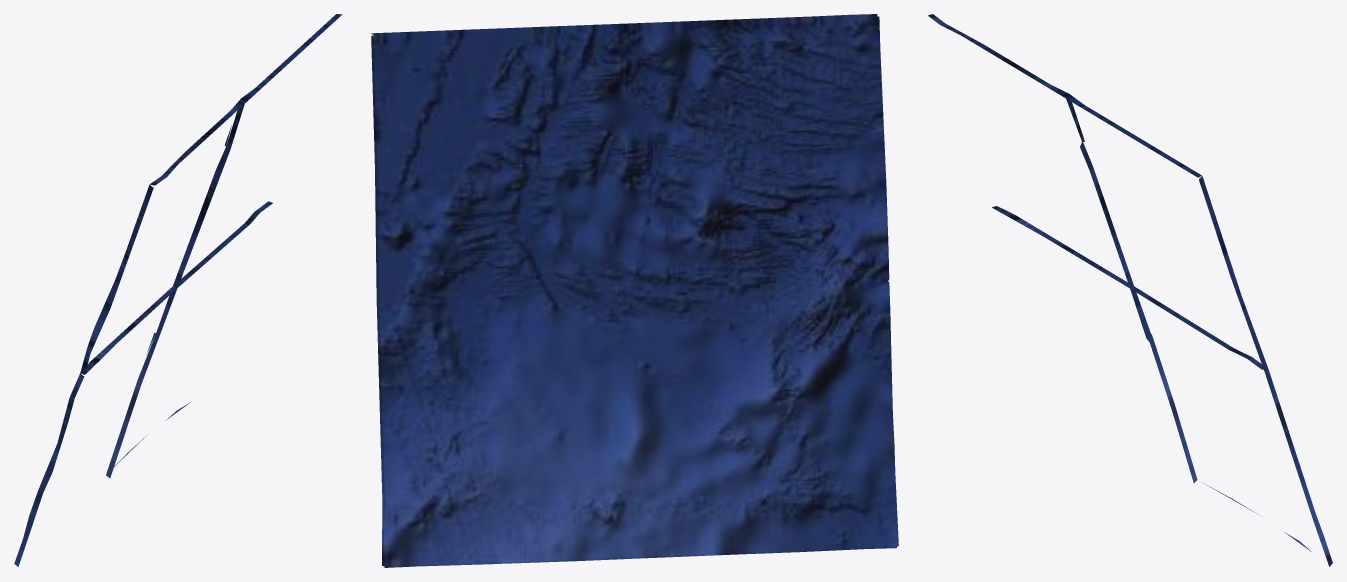
3 renders of one model, left to right at view 1: azimuth 30°, elevation 25°; view 2: azimuth 150°, elevation 25°; view 3: azimuth 270°, elevation 25°, orthographic. The views are drawn at different scales.
Size of the model in its own units: 304058 by 299969 by 256911.
1 material, 1 textured.
